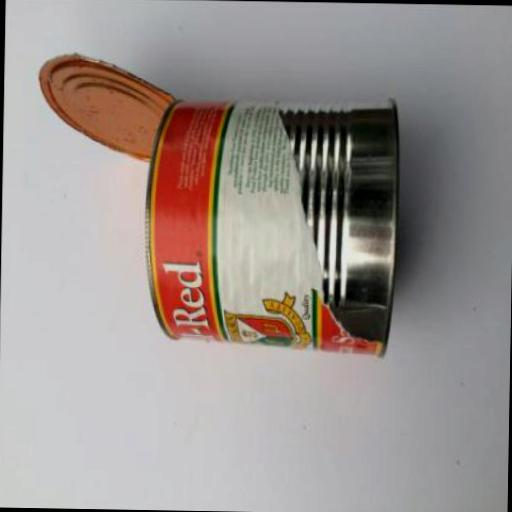metal: (142, 92, 402, 357), (36, 51, 176, 164)
